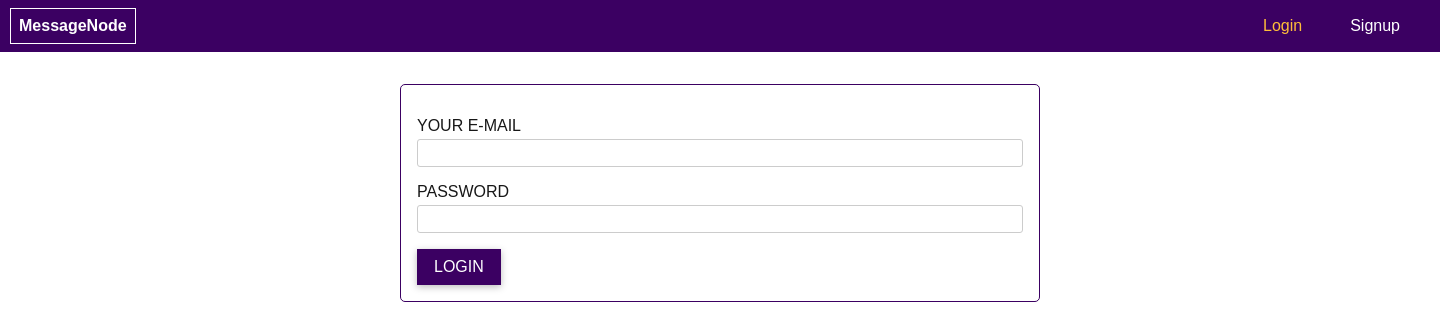
Scenario: Login lưu token, hiển thị feed rỗng và Logout xóa phiên
Type "test@example.com" into the field labelled "YOUR E-MAIL" at (720,153), box [417,139,1023,167]
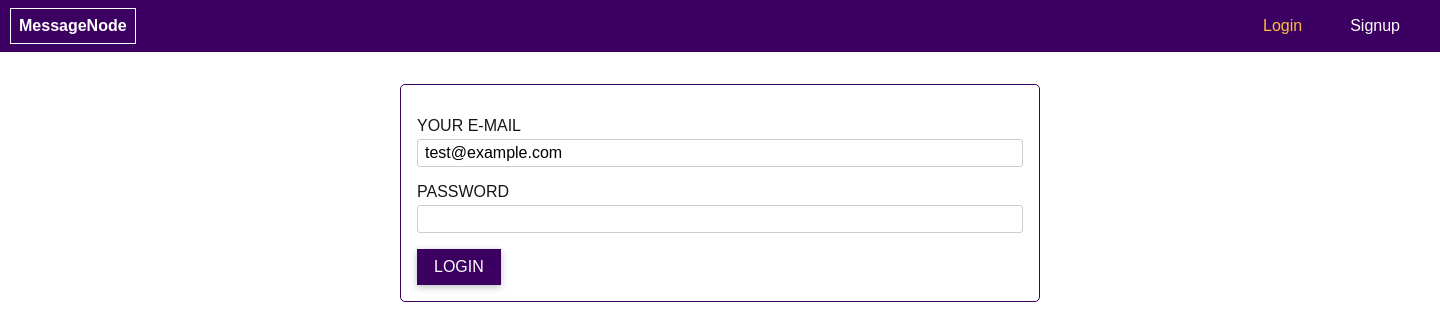
Type "password123" into the password field labelled "PASSWORD" at (720,219), box [417,205,1023,233]
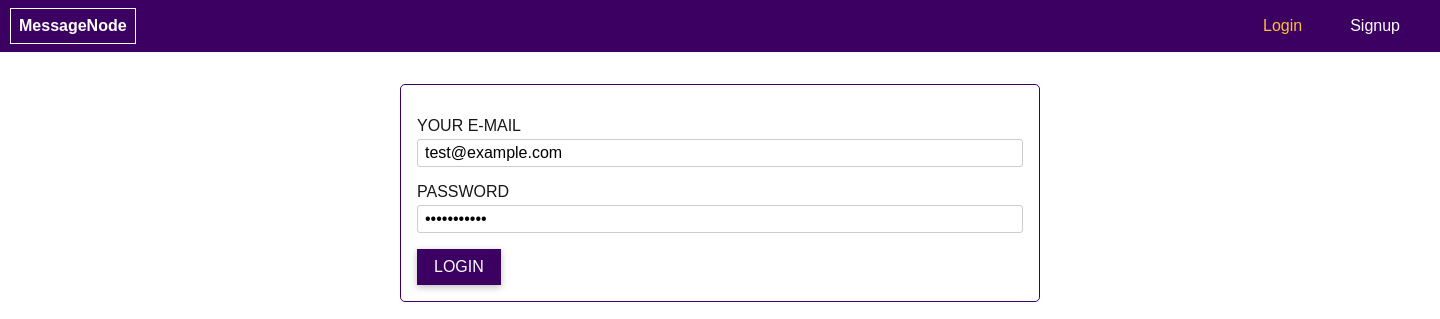
Click the button "LOGIN" at (459,267), box [417,249,501,285]
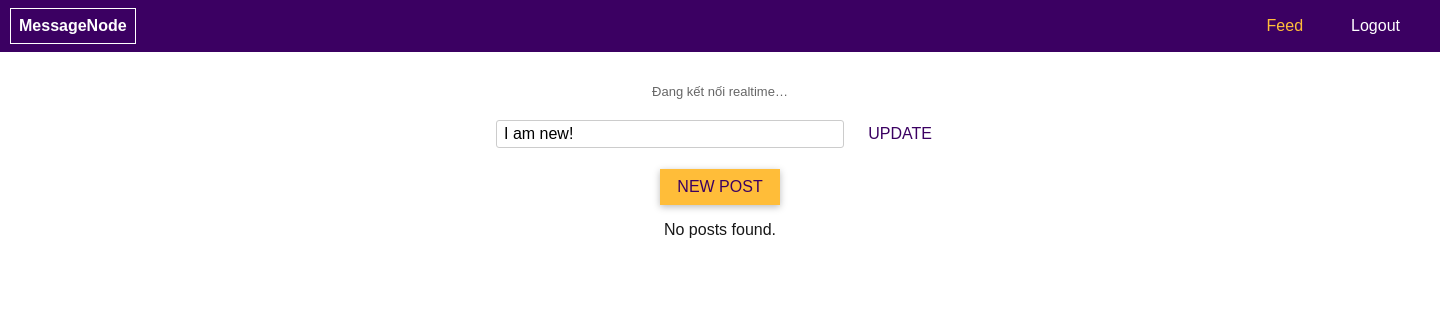
Expected: the text "No posts found." is shown, [664,221,776,238]
Click the button "Logout" at (1376,26), box [1351,9,1400,43]
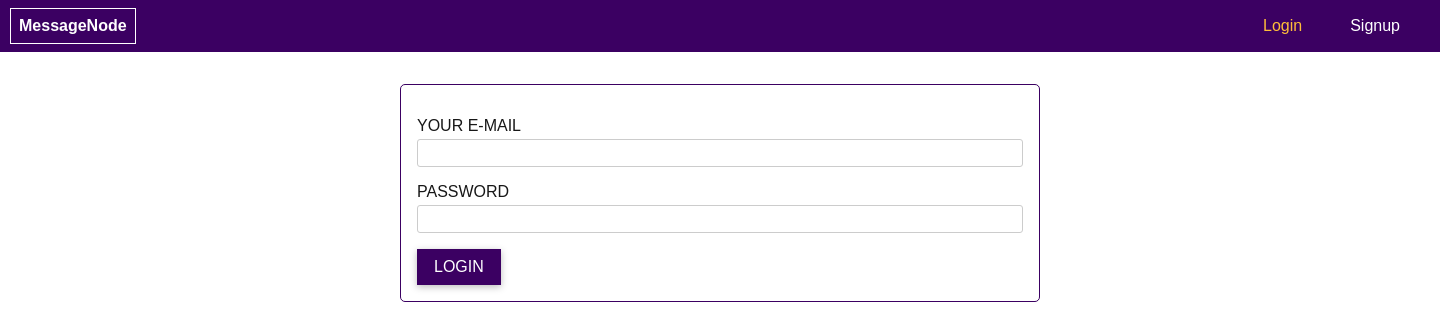
Expected: the button "LOGIN" is shown, [417,249,501,285]
